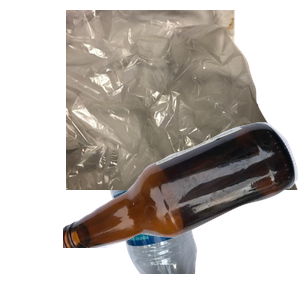cardboard: (75, 59, 237, 176)
glass: (63, 120, 300, 300)
plastic: (99, 120, 289, 300)
trash: (66, 10, 300, 190)
